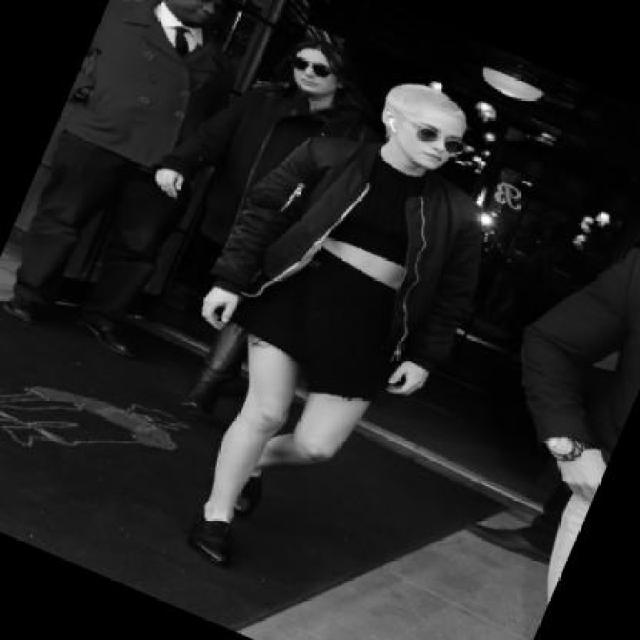earphone: (380, 110, 405, 144)
